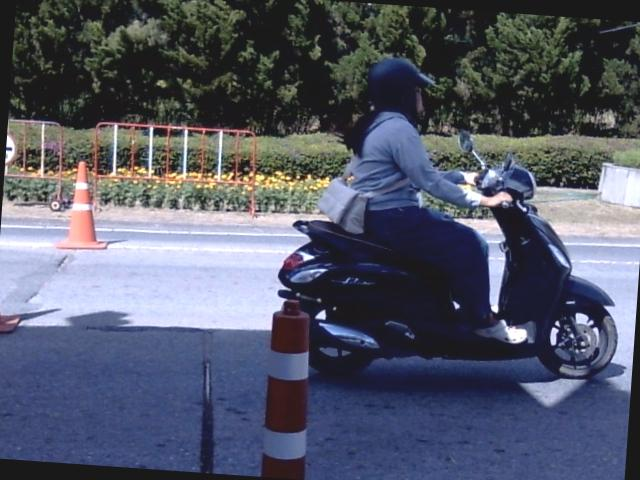helmet: (366, 55, 434, 123)
motor: (277, 131, 616, 378)
person: (342, 57, 524, 342)
